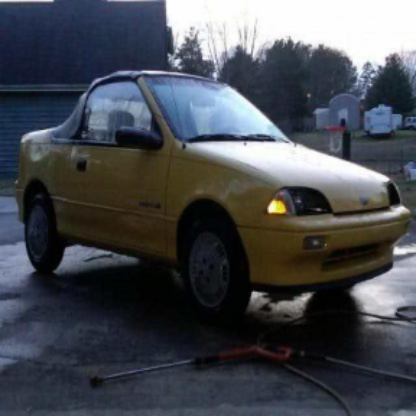Vehicle: (13, 72, 412, 324)
